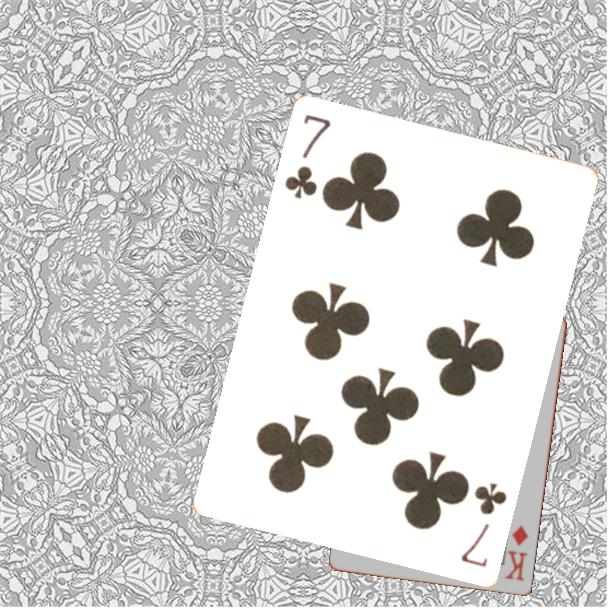c07: (457, 480, 511, 571), (281, 111, 334, 203)
d13: (501, 522, 531, 584)
